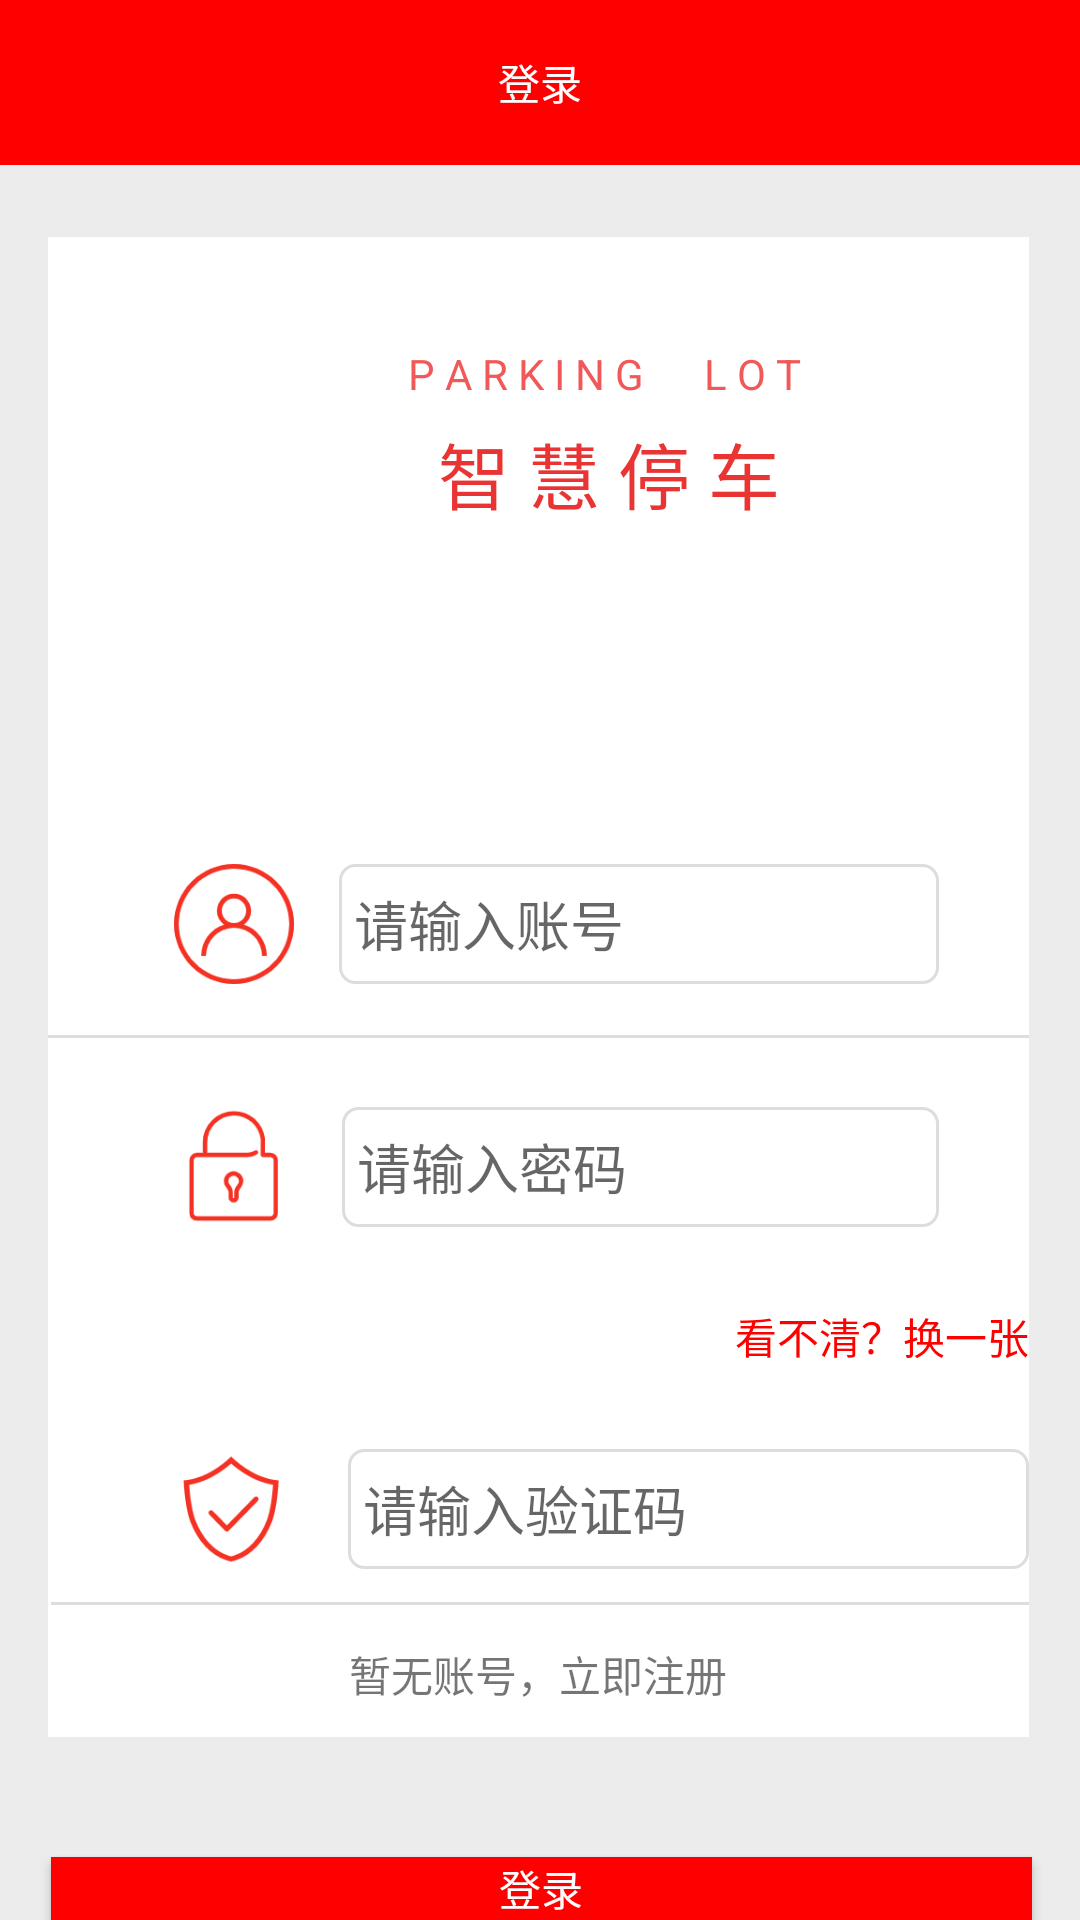

Named icons in this screenshot (1080w x 1920h) and their bounding boxes, {"x1": x1, "y1": y1, "x2": x2, "y2": y2}:
conunt: {"x1": 174, "y1": 864, "x2": 294, "y2": 984}
yanzhengma: {"x1": 183, "y1": 1456, "x2": 279, "y2": 1562}
